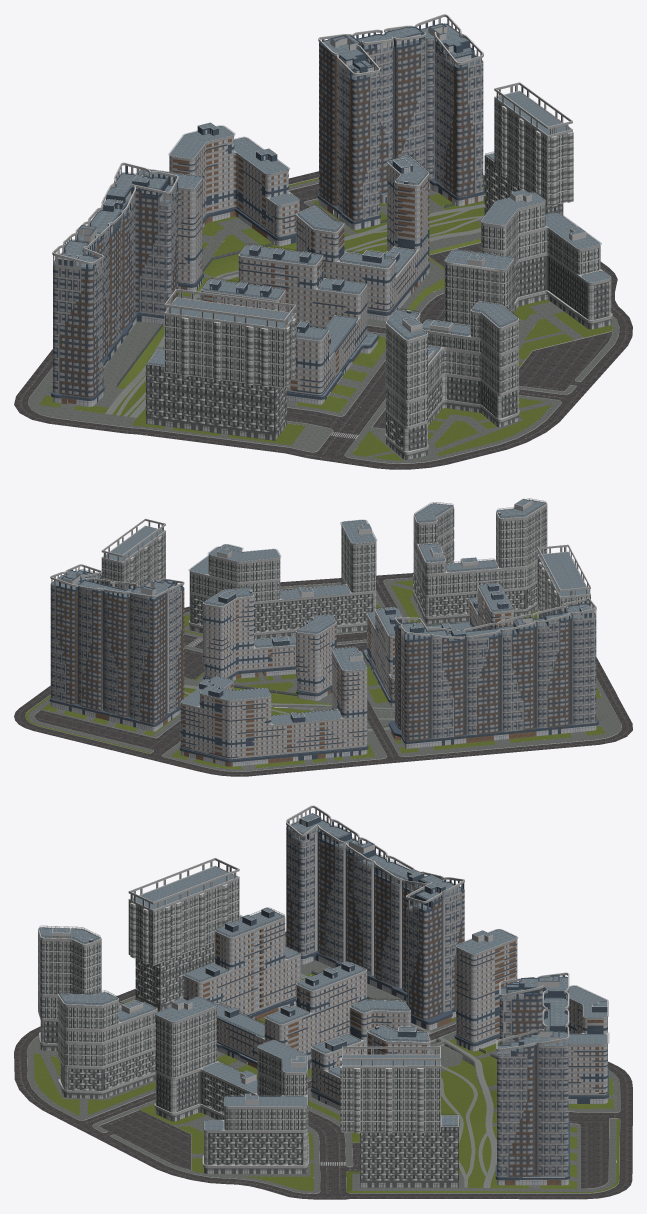
File: modern city block.glb
3 renders of one model, top to bottom at view 1: azimuth 30°, elevation 25°; view 2: azimuth 150°, elevation 25°; view 3: azimuth 270°, elevation 25°, orthographic. The views are drawn at different scales.
Visible parts, largest first — view 1: mesh; view 2: mesh; view 3: mesh.
Boxes of the visible parts, x1=… form: mesh: x1=14, y1=14, x2=632, y2=469; mesh: x1=14, y1=498, x2=632, y2=776; mesh: x1=14, y1=805, x2=632, y2=1199.
Size of what is drawn, in the model's own units: 413 by 118 by 401.
Materials: 7 (7 with a texture image).
